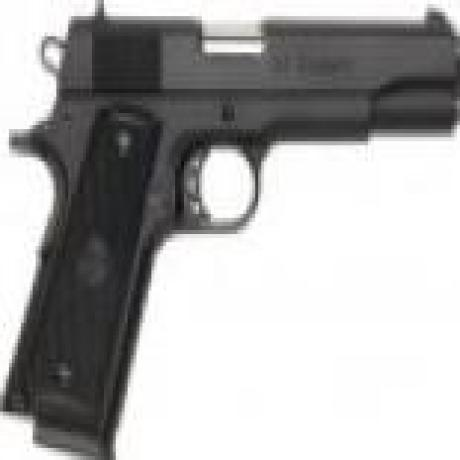weapon: (9, 12, 459, 442)
